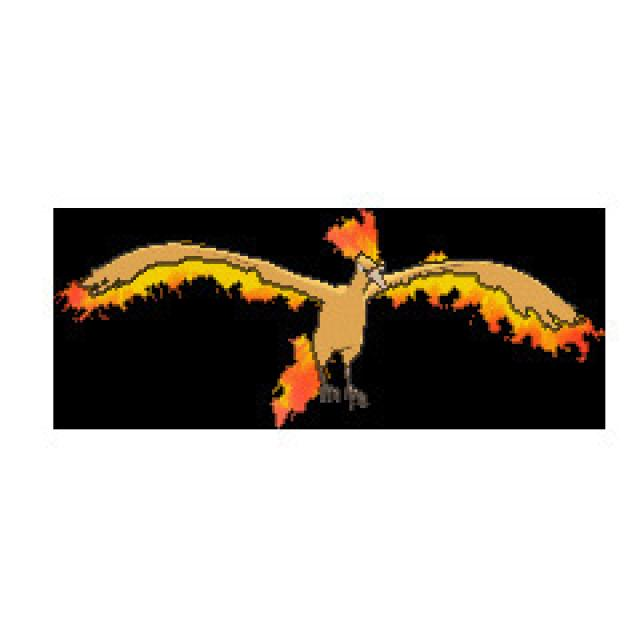Moltres: (145, 206, 537, 418)
